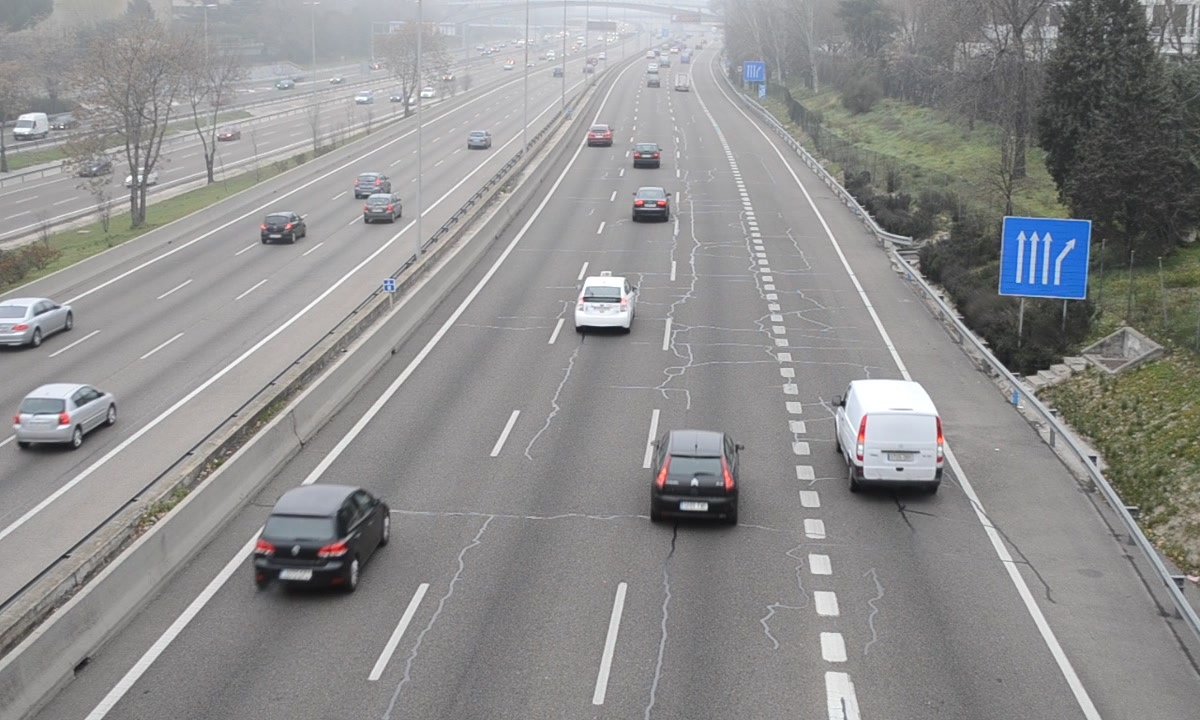car: (253, 486, 389, 589), (650, 431, 742, 521), (574, 276, 635, 327), (632, 185, 671, 223), (632, 140, 662, 172), (587, 123, 612, 145)
van: (837, 380, 944, 486)
